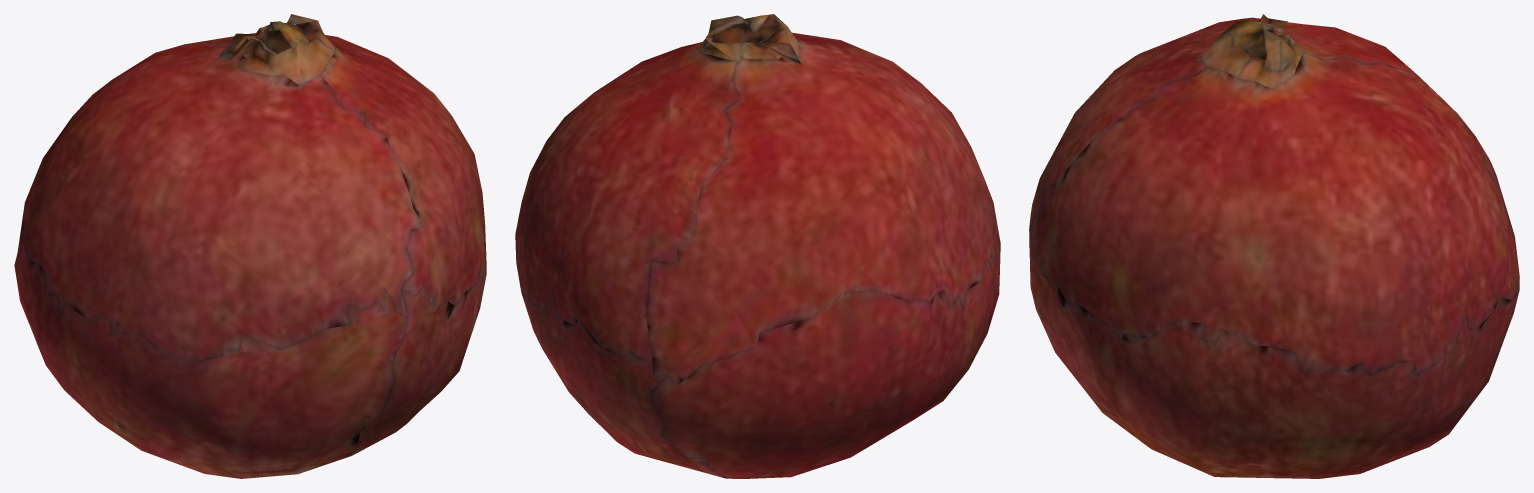
The model's file is food_pomegranate_01.glb.
3 renders of one model, left to right at view 1: azimuth 30°, elevation 25°; view 2: azimuth 150°, elevation 25°; view 3: azimuth 270°, elevation 25°, orthographic. The views are drawn at different scales.
Parts seen in each view (by area): view 1: food_pomegranate_01; view 2: food_pomegranate_01; view 3: food_pomegranate_01.
Boxes of the visible parts, x1,y1,x2,y2 form: food_pomegranate_01: (14,14,486,478); food_pomegranate_01: (515,14,1000,478); food_pomegranate_01: (1029,14,1519,478).
Bounding box in the file's own units: 0.1139 × 0.1147 × 0.115.
1 material, 1 textured.
